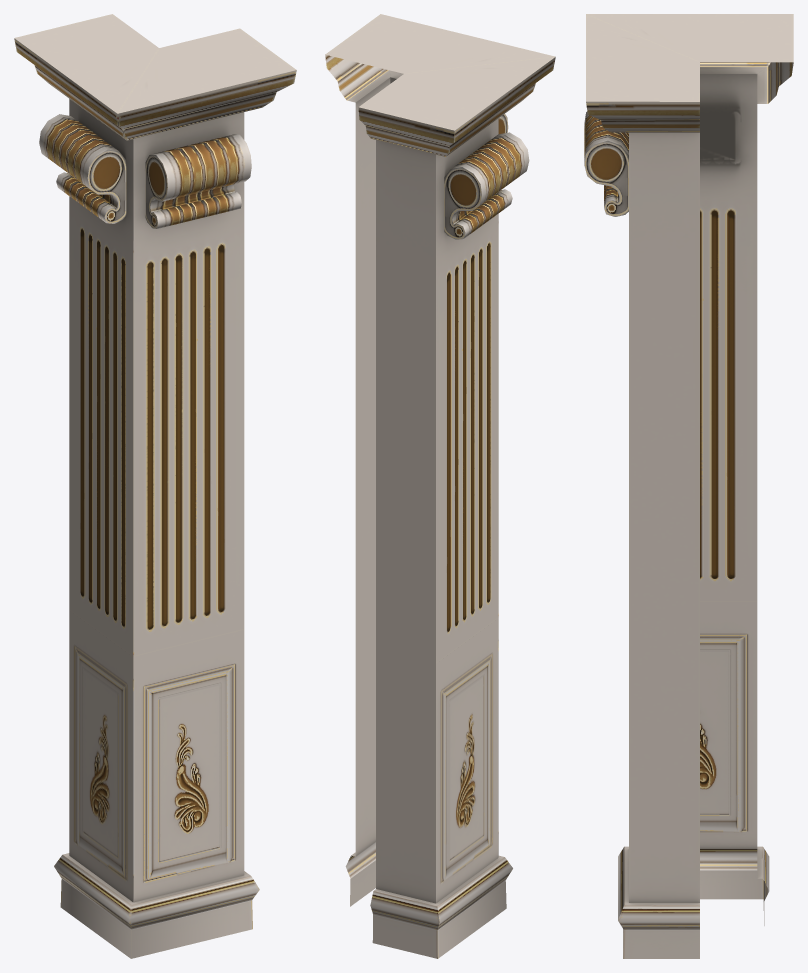
Rendered from Room02_PillarA.FBX.
The picture shows the model from 3 angles, left to right: view 1: azimuth 30°, elevation 25°; view 2: azimuth 150°, elevation 25°; view 3: azimuth 270°, elevation 25°; orthographic projection. The views are drawn at different scales.
Parts seen in each view (by area): view 1: Room02_PillarA; view 2: Room02_PillarA; view 3: Room02_PillarA.
Part boxes in pixels (x1,y1,x2,y2): Room02_PillarA: (14, 14, 296, 958); Room02_PillarA: (325, 14, 555, 958); Room02_PillarA: (584, 14, 793, 958).
Bounding box in the file's own units: 118 × 118 × 540.
